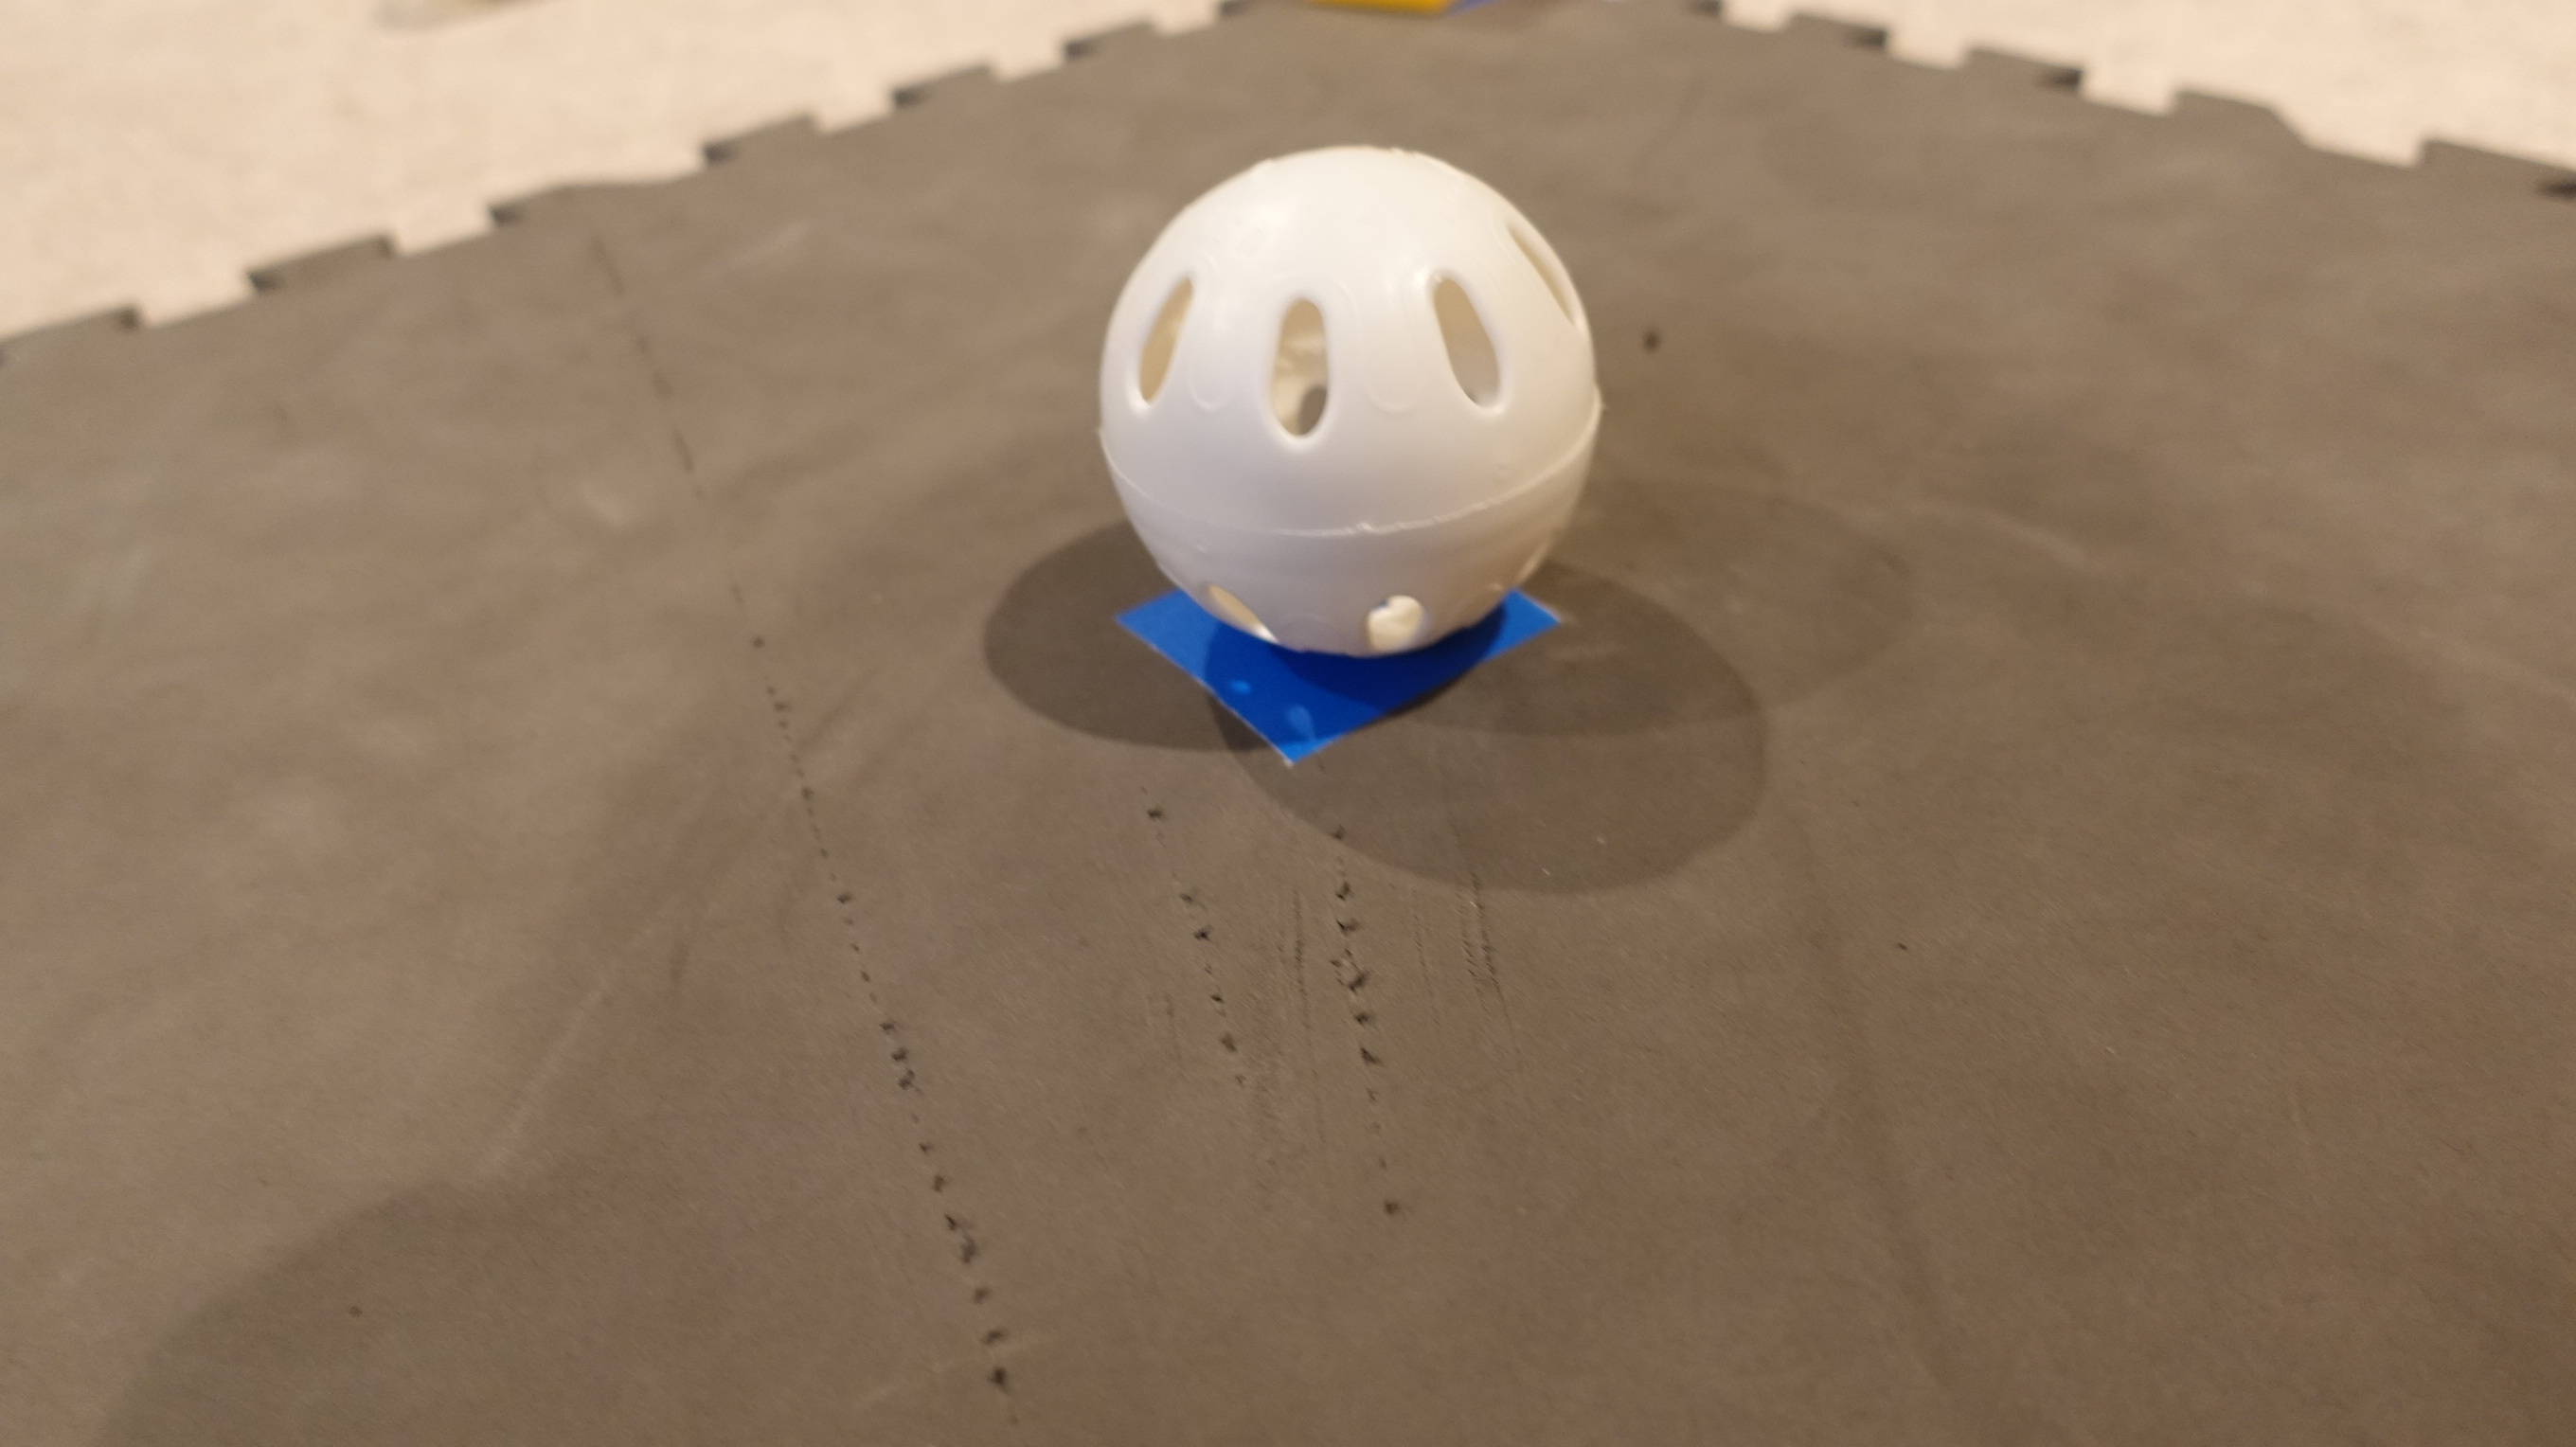silver: (1092, 147, 1603, 660)
